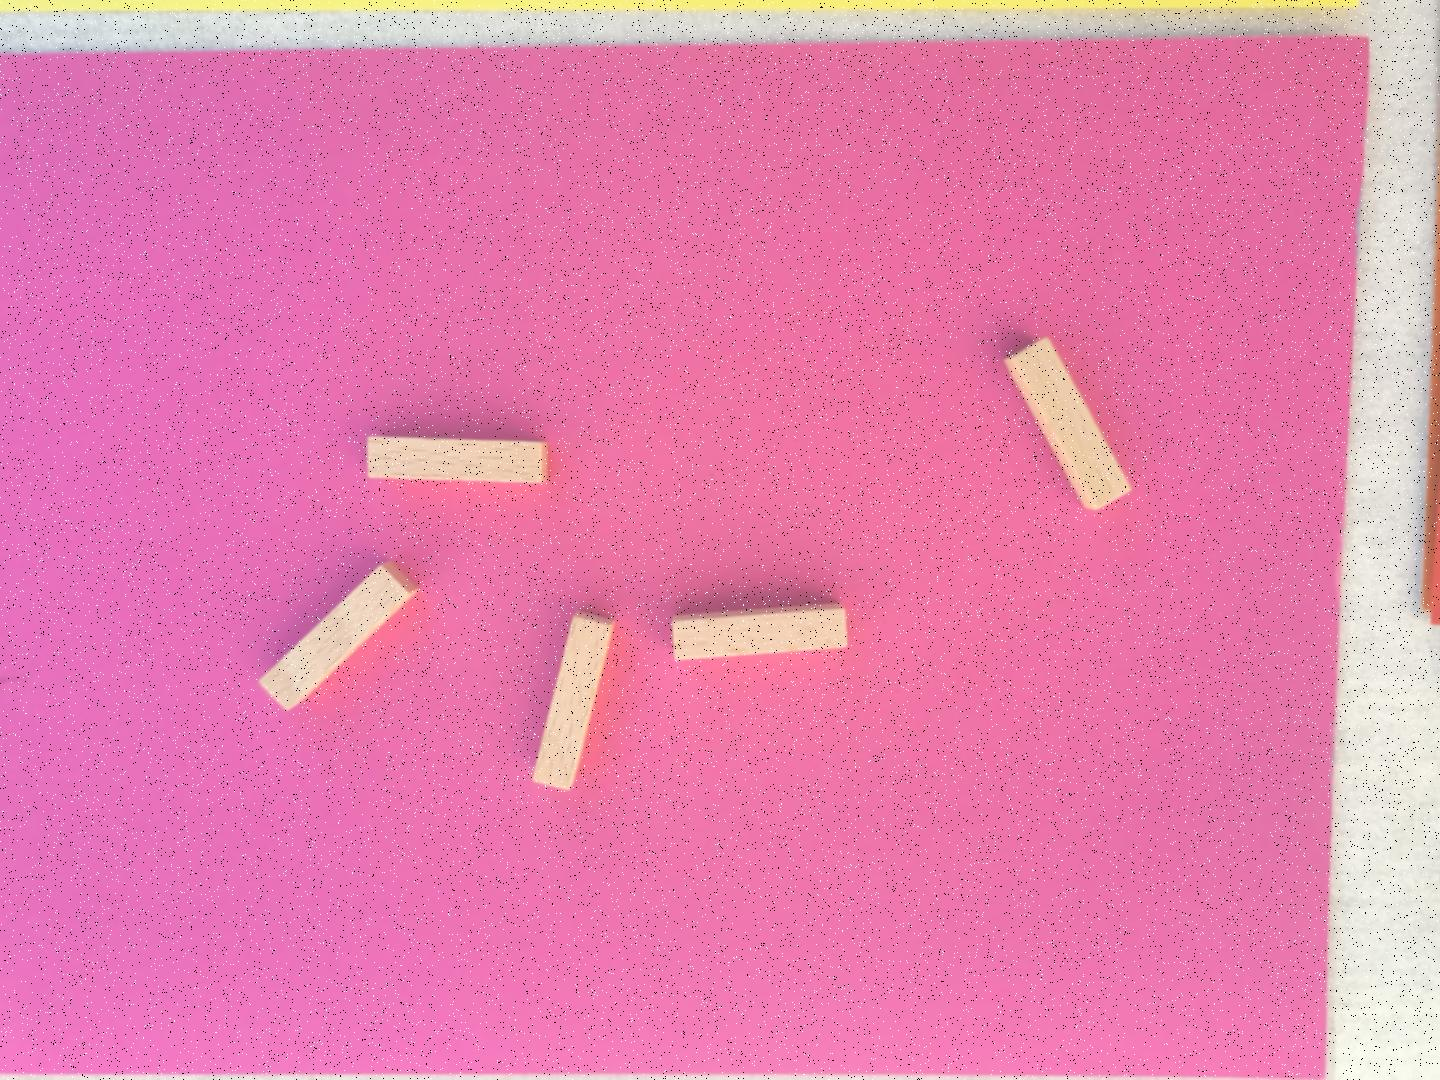jenga: (259, 563, 416, 709), (1005, 338, 1130, 509), (532, 613, 613, 791), (672, 605, 847, 661), (369, 436, 549, 483)
